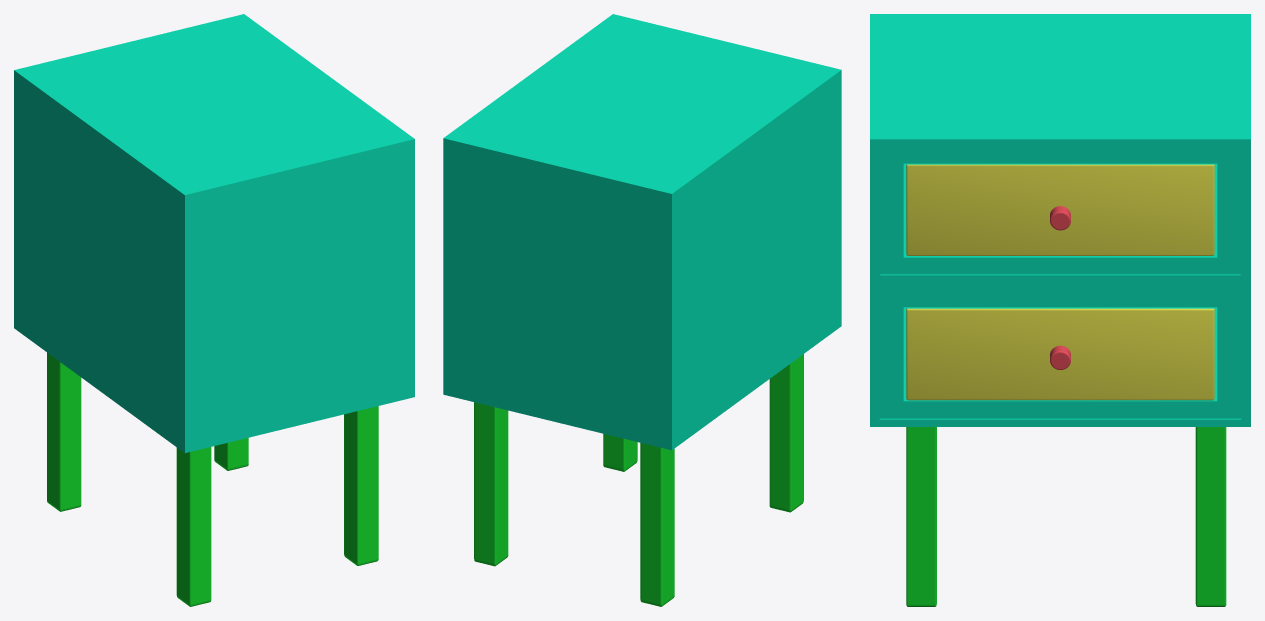
Rendered from Metcalf_Nightstand_06.fbx.
3 renders of one model, left to right at view 1: azimuth 30°, elevation 25°; view 2: azimuth 150°, elevation 25°; view 3: azimuth 270°, elevation 25°, orthographic. The views are drawn at different scales.
Parts seen in each view (by area): view 1: Nightstand, Leg2, Leg1, Leg4, Leg3; view 2: Nightstand, Leg4, Leg3, Leg2, Leg1; view 3: Nightstand, Drawer2, Drawer1, Leg3, Leg1.
Part boxes in pixels (left/top/right/bottom): Nightstand: left=14, top=14, right=414, bottom=452; Leg2: left=176, top=447, right=211, bottom=606; Leg1: left=344, top=406, right=378, bottom=565; Leg4: left=47, top=352, right=81, bottom=511; Leg3: left=214, top=437, right=248, bottom=470; Nightstand: left=443, top=14, right=841, bottom=450; Leg4: left=640, top=443, right=674, bottom=606; Leg3: left=474, top=402, right=508, bottom=566; Leg2: left=769, top=354, right=803, bottom=512; Leg1: left=603, top=434, right=637, bottom=471; Nightstand: left=870, top=14, right=1250, bottom=426; Drawer2: left=906, top=308, right=1214, bottom=400; Drawer1: left=906, top=164, right=1214, bottom=255; Leg3: left=1195, top=427, right=1226, bottom=606; Leg1: left=906, top=427, right=936, bottom=606.
Bounding box in the file's own units: 36.93 × 63.45 × 45.72.
